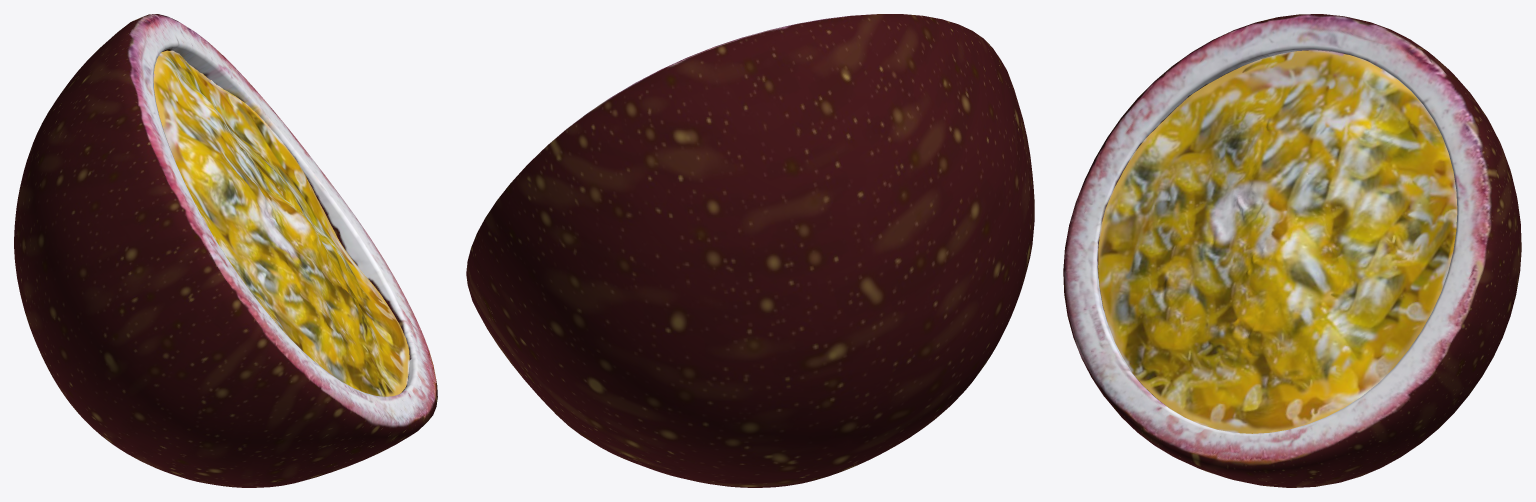
The model's file is passionfruit.glb.
The picture shows the model from 3 angles, left to right: view 1: azimuth 30°, elevation 25°; view 2: azimuth 150°, elevation 25°; view 3: azimuth 270°, elevation 25°; orthographic projection. The views are drawn at different scales.
Parts seen in each view (by area): view 1: shell_low, internal_low; view 2: shell_low; view 3: internal_low, shell_low.
Boxes of the visible parts, x1,y1,x2,y2 form: shell_low: (14, 14, 437, 487); internal_low: (153, 50, 409, 396); shell_low: (466, 14, 1034, 487); internal_low: (1098, 50, 1457, 433); shell_low: (1063, 14, 1521, 487).
Bounding box in the file's own units: 0.3656 × 0.3801 × 0.3926.
Materials: 1 (1 with a texture image).
